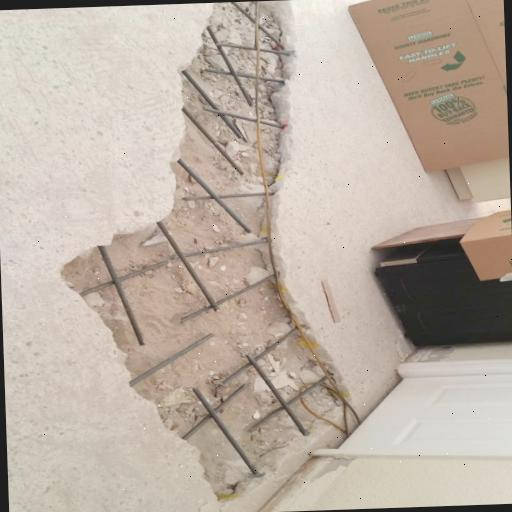spalling: (50, 0, 355, 502)
